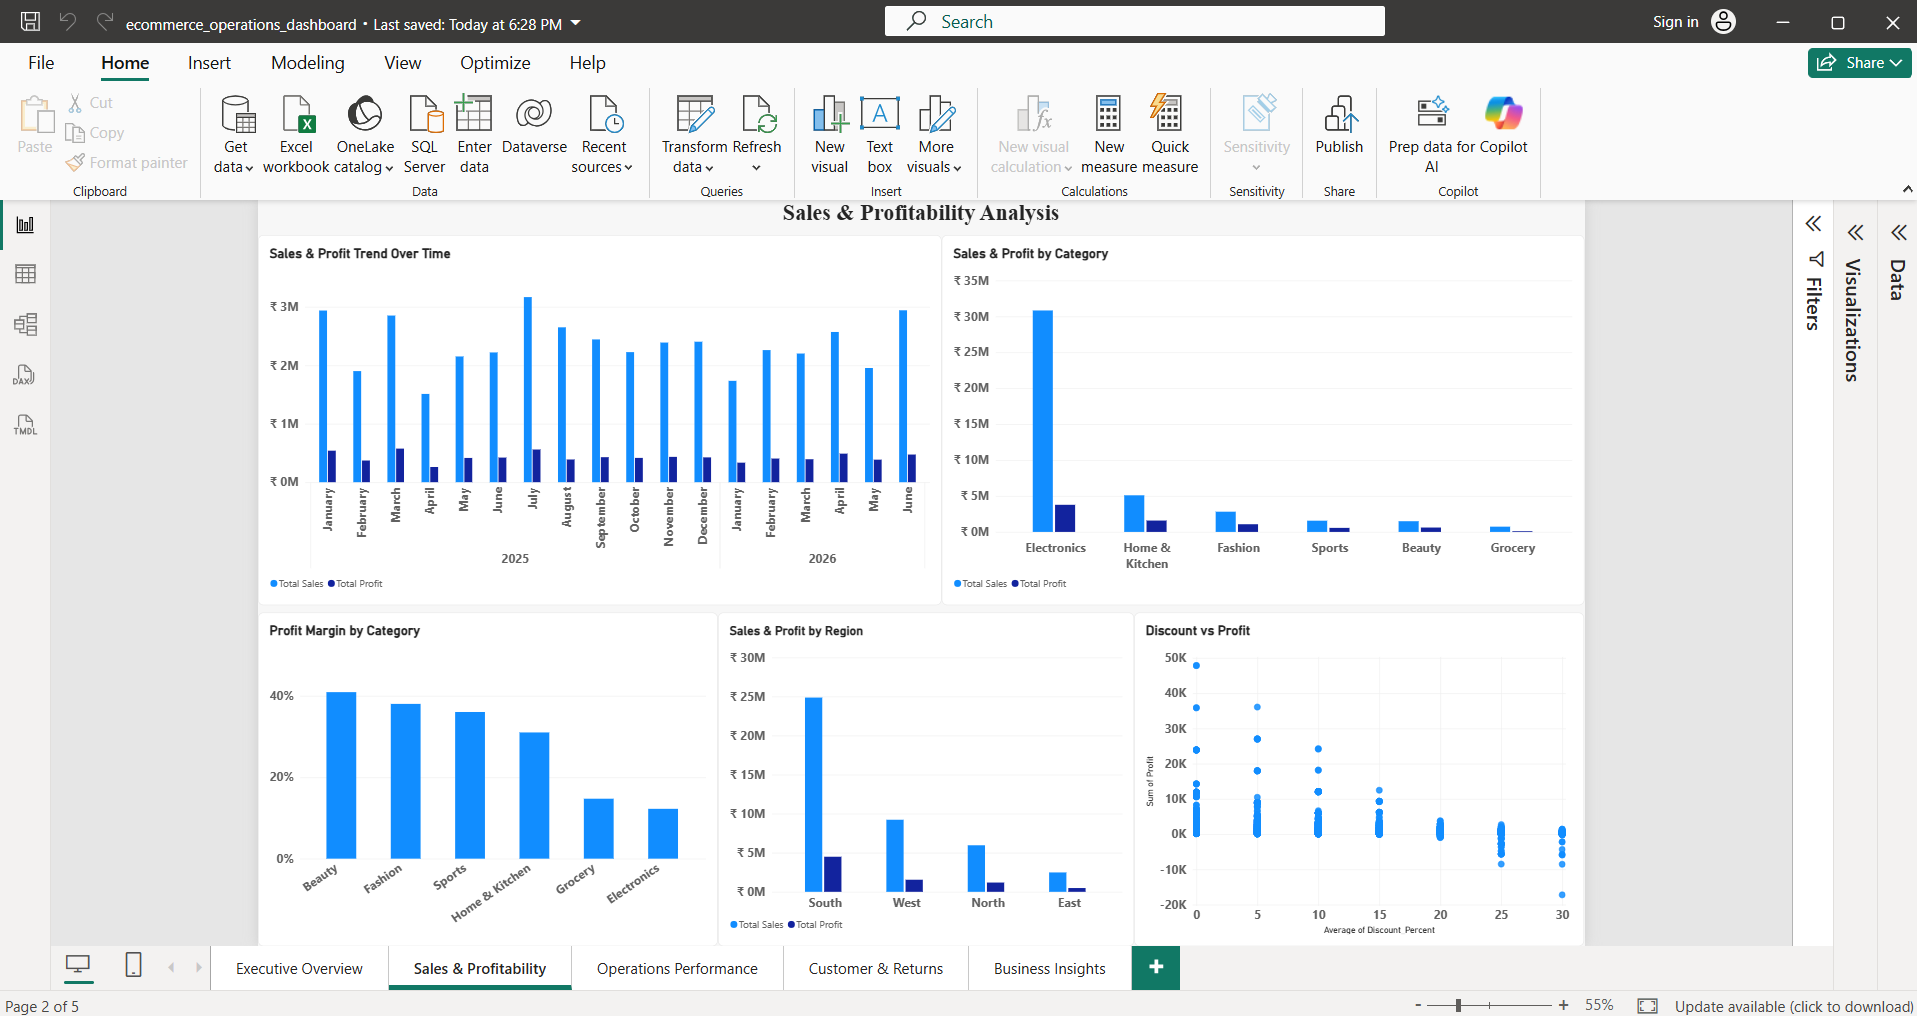

The dashboard page shown, as its layout file describes it:
{"tool":"powerbi","page":{"name":"Sales & Profitability","canvas":[1920,1080],"ordinal":1},"visuals":[{"type":"textbox","box":[0,0,1920.1,50.7],"z":0},{"type":"lineClusteredColumnComboChart","title":"Sales & Profit Trend Over Time","fields":{"Category":["ecommerce_operations_analytics.Order_Date.Variation.Date Hierarchy.Year","ecommerce_operations_analytics.Order_Date.Variation.Date Hierarchy.Month"],"Y":["ecommerce_operations_analytics.Total Sales","ecommerce_operations_analytics.Total Profit"]},"box":[0,50.7,989.9,535.7],"z":1000},{"type":"clusteredColumnChart","title":"Sales & Profit by Category","fields":{"Category":["ecommerce_operations_analytics.Category"],"Y":["ecommerce_operations_analytics.Total Sales","ecommerce_operations_analytics.Total Profit"]},"box":[989.9,50.7,930.2,535.7],"z":2000},{"type":"clusteredColumnChart","title":"Profit Margin by Category","fields":{"Category":["ecommerce_operations_analytics.Category"],"Y":["ecommerce_operations_analytics.Profit Margin"]},"box":[0,597.2,666,483.2],"z":3000},{"type":"clusteredColumnChart","title":"Sales & Profit by Region","fields":{"Category":["ecommerce_operations_analytics.Region"],"Y":["ecommerce_operations_analytics.Total Sales","ecommerce_operations_analytics.Total Profit"]},"box":[666,597.2,602.6,483.2],"z":4000},{"type":"scatterChart","title":"Discount vs Profit","fields":{"Category":["ecommerce_operations_analytics.Order_ID"],"X":["Avg(ecommerce_operations_analytics.Discount_Percent)"],"Y":["Sum(ecommerce_operations_analytics.Profit)"]},"box":[1268.6,597.2,651.5,483.2],"z":5000}]}

Visuals, with their boxes on the page's 1920x1080 design canvas (x1, y1, x2, y2). These are canvas units, not pixel positions in the 1917x1016 screenshot, which may show the page scaled, cropped or inside an application window:
textbox: (left=0, top=0, right=1920, bottom=51)
"Sales & Profit Trend Over Time" lineClusteredColumnComboChart: (left=0, top=51, right=990, bottom=586)
"Sales & Profit by Category" clusteredColumnChart: (left=990, top=51, right=1920, bottom=586)
"Profit Margin by Category" clusteredColumnChart: (left=0, top=597, right=666, bottom=1080)
"Sales & Profit by Region" clusteredColumnChart: (left=666, top=597, right=1269, bottom=1080)
"Discount vs Profit" scatterChart: (left=1269, top=597, right=1920, bottom=1080)
